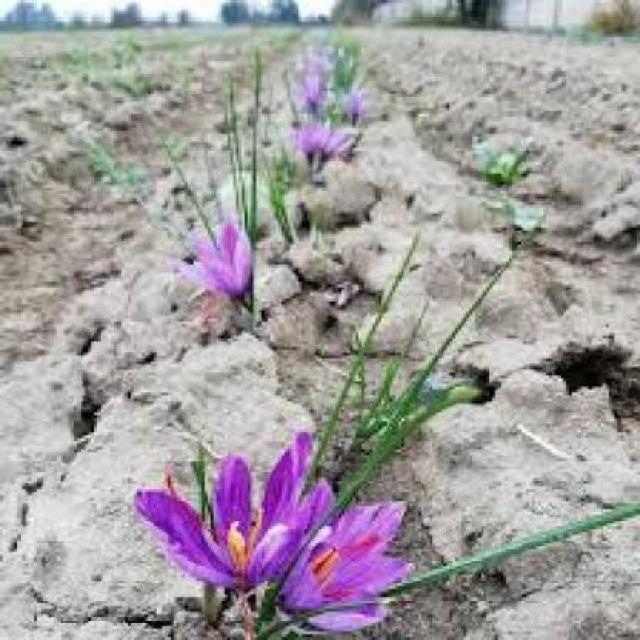saffron open: (136, 451, 315, 636), (283, 480, 411, 631), (180, 218, 252, 301)
